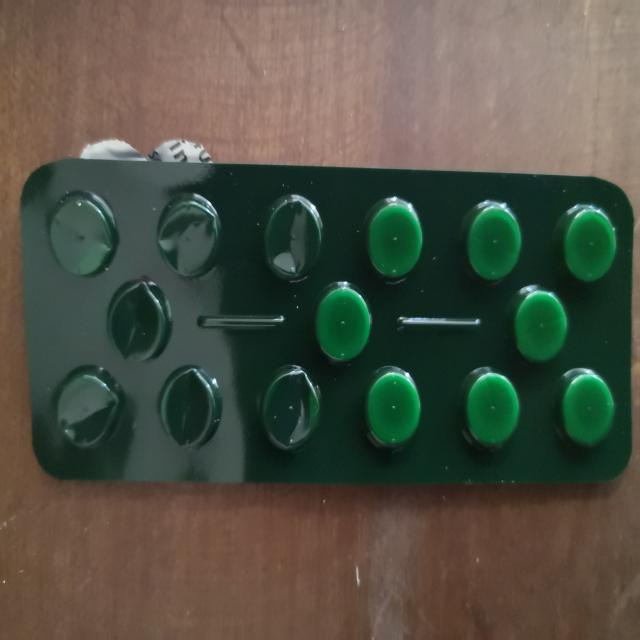Empty: (42, 187, 118, 281), (250, 366, 326, 452), (150, 190, 224, 278), (48, 368, 124, 452), (103, 282, 176, 366), (256, 194, 325, 282), (152, 366, 222, 448)
Pill: (358, 192, 428, 282), (310, 280, 380, 366), (549, 367, 620, 447), (362, 366, 428, 452), (458, 196, 523, 282), (555, 199, 620, 285), (456, 364, 521, 450), (506, 283, 570, 362)
